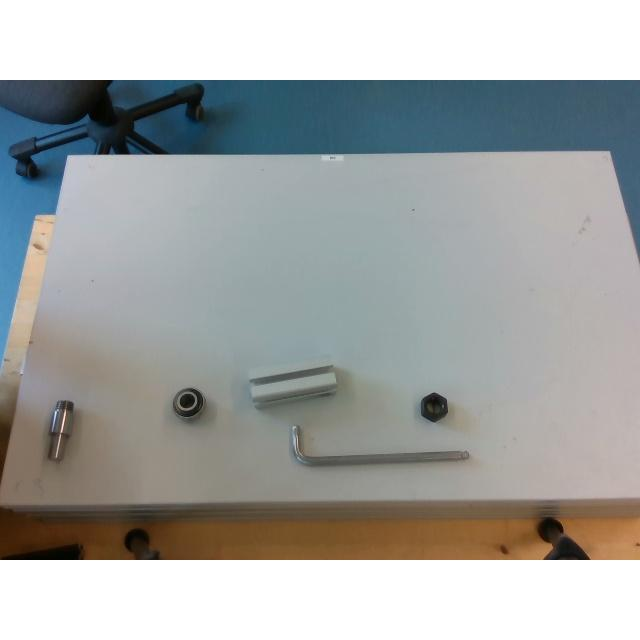AllenKey: (289, 426, 469, 466)
Axis2: (49, 400, 73, 460)
Bearing2: (172, 388, 206, 420)
M20: (420, 392, 448, 422)
S40_40_G: (249, 364, 337, 406)
